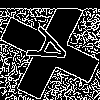A: (25, 25, 81, 76)
